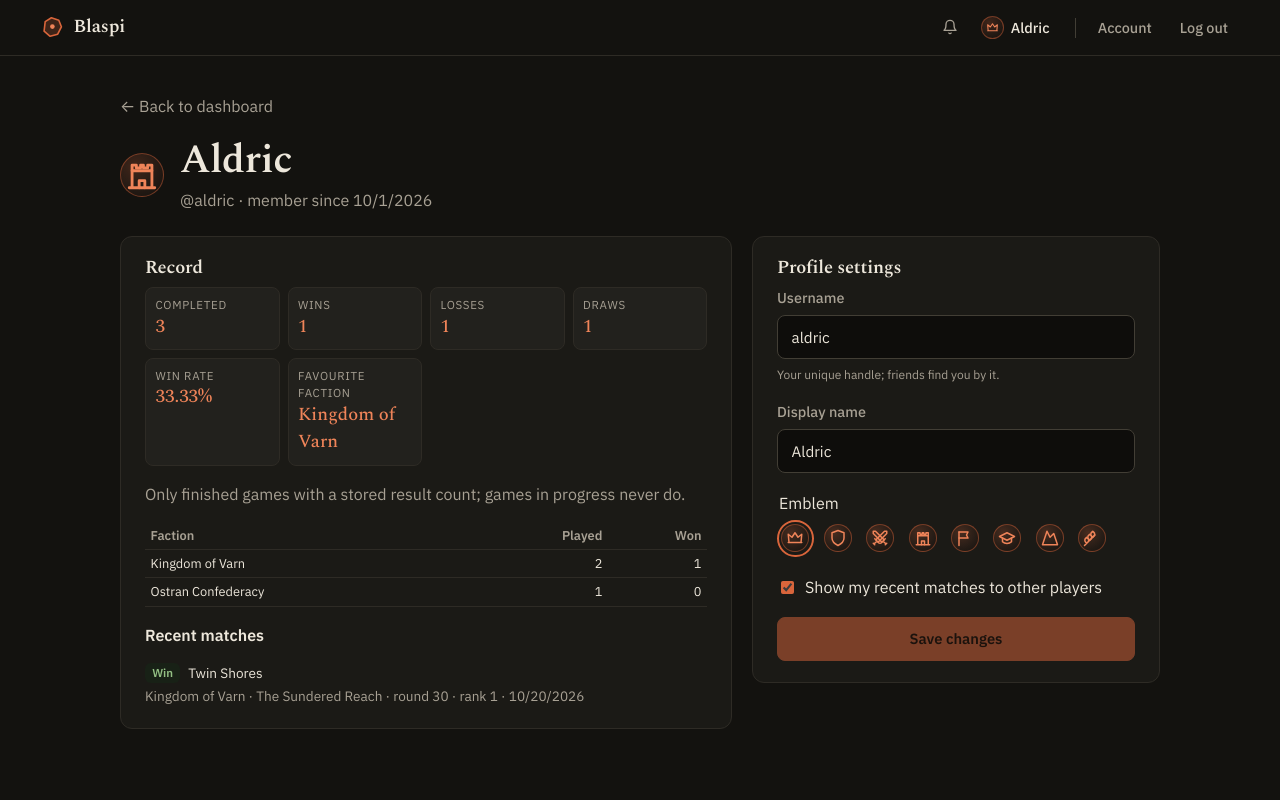
Test: Profiles (12A) › shows a taken username as the server reports it
Replace the text in the field labelled "Username Your unique handle; friends find you by it." with "bryn" at x=956, y=337, box [777, 315, 1135, 359]
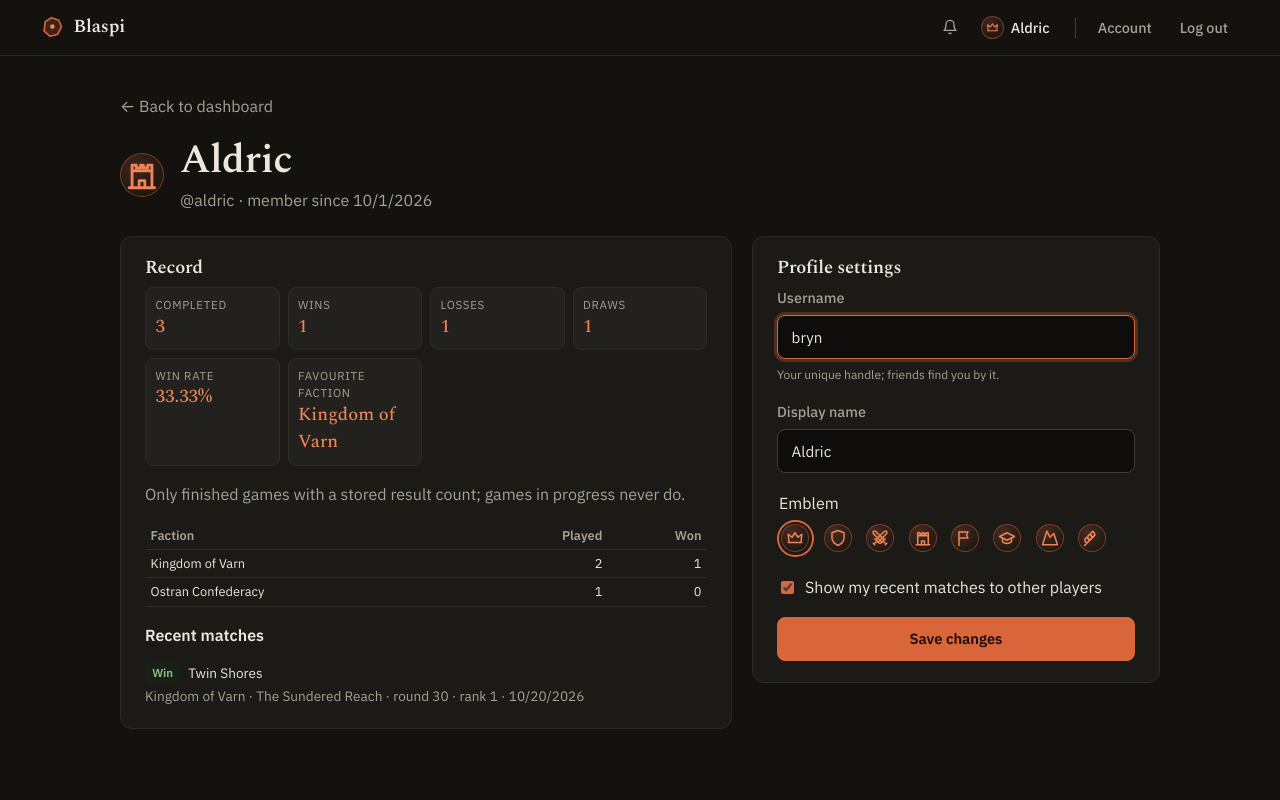
Click the button "Save changes" at x=956, y=639, box [777, 617, 1135, 661]
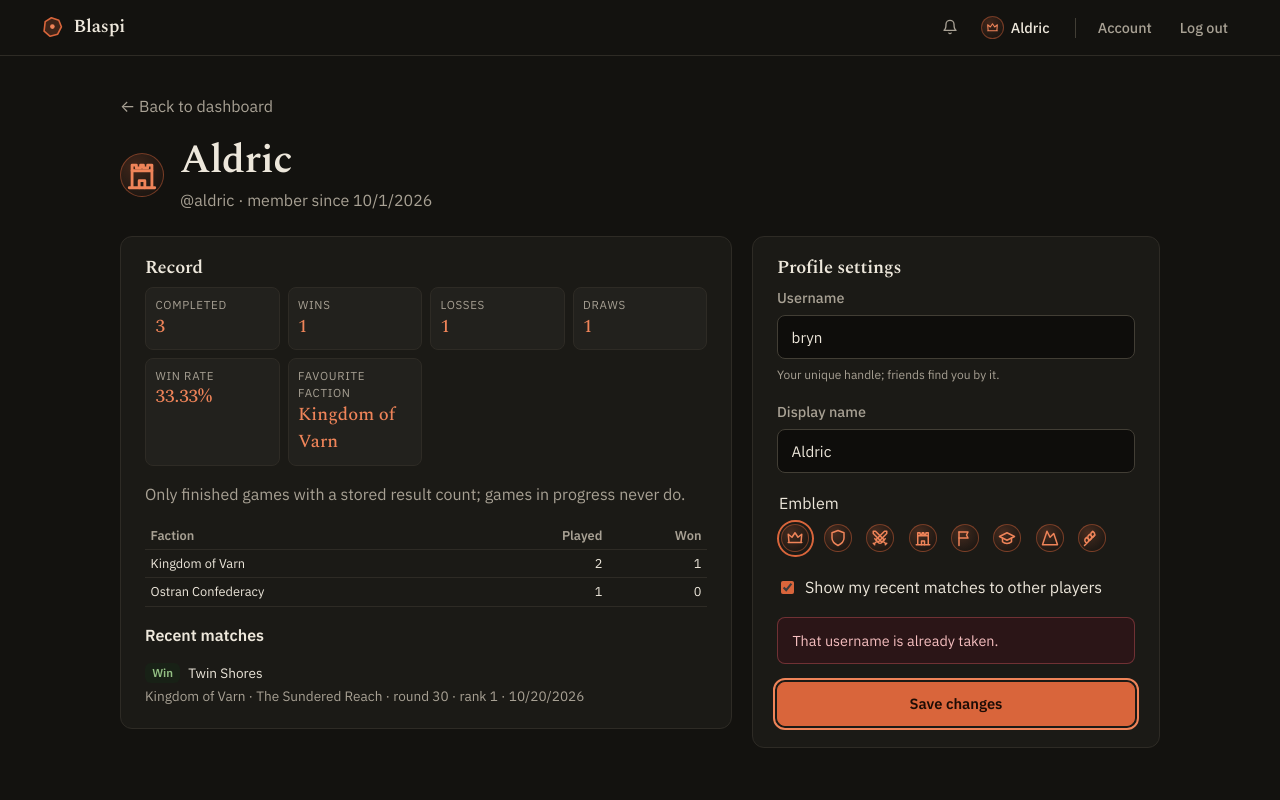
Expected: the message reads "That username is already taken.", [792, 631, 998, 650]
